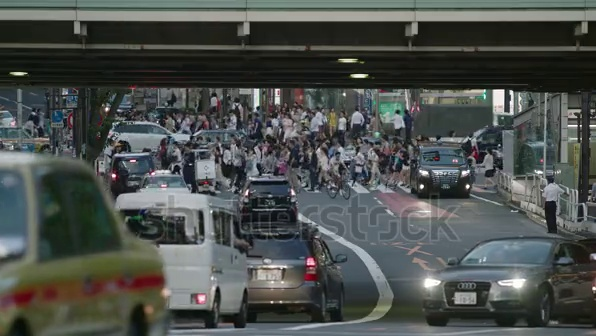licenseplate: (254, 271, 287, 284), (454, 289, 479, 306)
